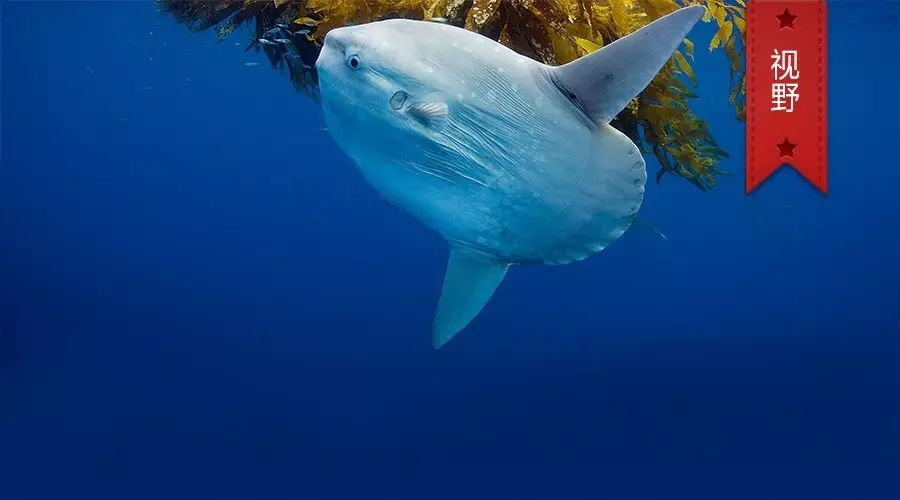shark: (305, 1, 714, 365)
